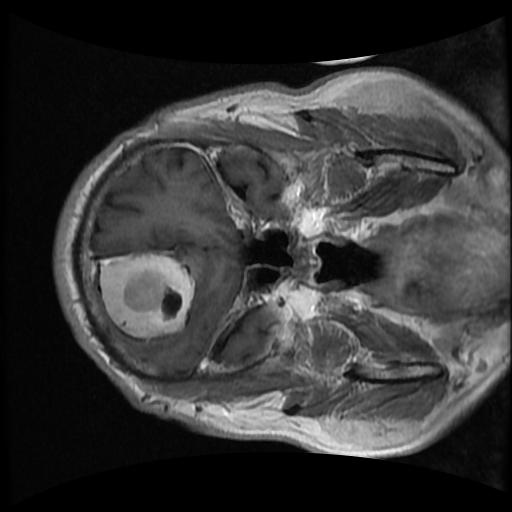meningioma: (98, 253, 194, 338)
